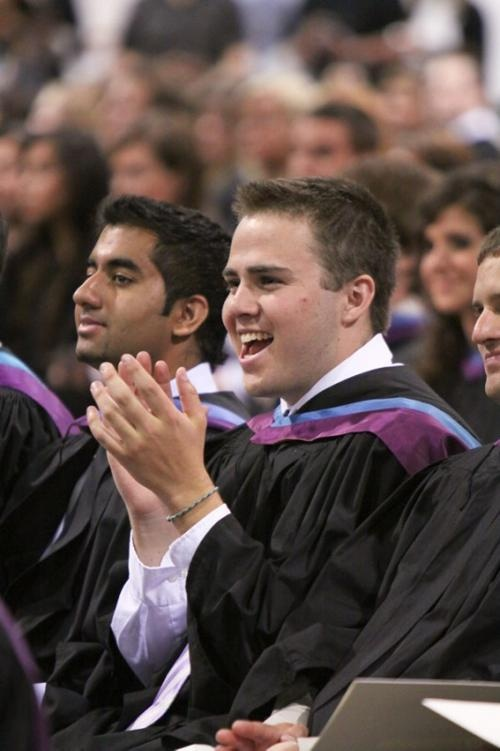person without safety: (199, 161, 429, 652), (38, 185, 236, 569)
